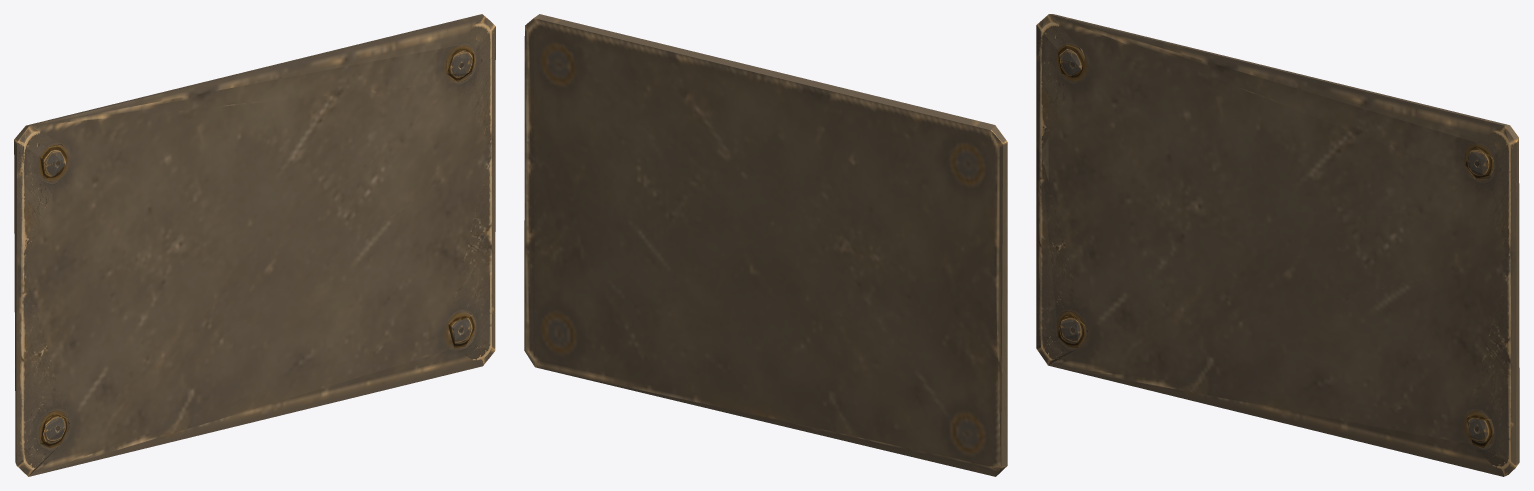
File: proboina-zaplatka.glb
3 renders of one model, left to right at view 1: azimuth 30°, elevation 25°; view 2: azimuth 150°, elevation 25°; view 3: azimuth 330°, elevation 25°, orthographic.
Parts seen in each view (by area): view 1: proboina-zaplatka; view 2: proboina-zaplatka; view 3: proboina-zaplatka.
Part boxes in pixels (x1,y1,x2,y2): proboina-zaplatka: (14,14,495,476); proboina-zaplatka: (524,14,1007,476); proboina-zaplatka: (1036,14,1519,476).
Size of the model in its own units: 0.5 by 0.35 by 0.012.
Materials: 1 (1 with a texture image).
